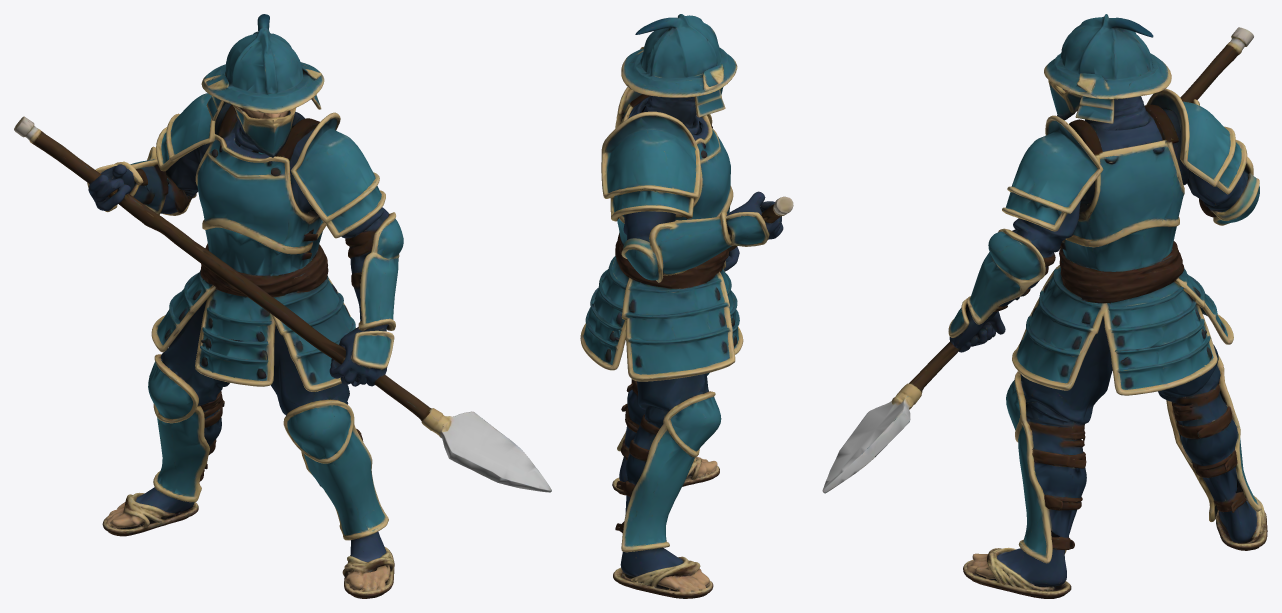
Rendered from detail_2.glb.
The picture shows the model from 3 angles, left to right: view 1: azimuth 30°, elevation 25°; view 2: azimuth 150°, elevation 25°; view 3: azimuth 270°, elevation 25°; orthographic projection. The views are drawn at different scales.
Size of the model in its own units: 0.6494 by 0.9976 by 0.7468.
Materials: 1 (1 with a texture image).
